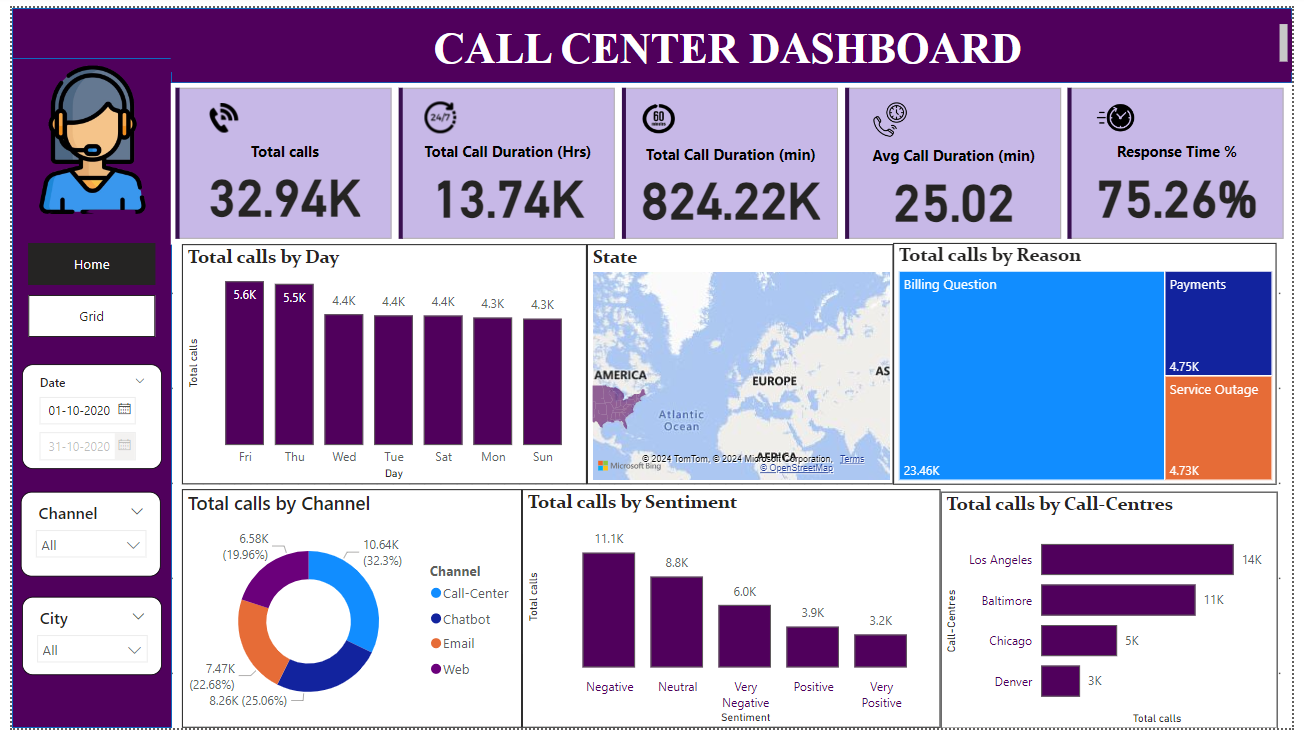

Layout of this report page (visuals, bound fields, positions):
{"tool":"powerbi","page":{"name":"Home","canvas":[1280,720],"ordinal":0},"visuals":[{"type":"shape","box":[0,0,1280.3,75.1],"z":0},{"type":"shape","box":[0,50,160,670],"z":1000},{"type":"cardVisual","fields":{"Data":["Call Center_Call Center.Total calls","Call Center_Call Center.Total Call Duration (Hrs)","Call Center_Call Center.Total Call Duration (min)","Call Center_Call Center.Avg Call Duration (min)","Call Center_Call Center.Response Time %"]},"box":[158.6,75.1,1121.6,161.4],"z":2000},{"type":"textbox","box":[158.6,11.1,1121.6,52.9],"z":3000},{"type":"columnChart","fields":{"Category":["Data Table.Day"],"Y":["Call Center_Call Center.Total calls"]},"box":[170,236.7,405,240],"z":4000},{"type":"filledMap","fields":{"Category":["Call Center_Call Center.State"]},"box":[575,236.7,306.7,240],"z":5000},{"type":"treemap","fields":{"Group":["Call Center_Call Center.Reason"],"Values":["Call Center_Call Center.Total calls"]},"box":[881.7,235,383.3,241.7],"z":6000},{"type":"donutChart","fields":{"Category":["Call Center_Call Center.Channel"],"Y":["Call Center_Call Center.Total calls"]},"box":[170,481.7,340,238.3],"z":7000},{"type":"columnChart","fields":{"Category":["Call Center_Call Center.Sentiment"],"Y":["Call Center_Call Center.Total calls"]},"box":[510,481.7,418.3,238.3],"z":8000},{"type":"barChart","fields":{"Category":["Call Center_Call Center.Call-Centres City"],"Y":["Call Center_Call Center.Total calls"]},"box":[928.3,483.3,336.7,236.7],"z":9000},{"type":"slicer","title":"Date","fields":{"Values":["Data Table.Date"]},"box":[10,356.7,140,105],"z":10000},{"type":"slicer","title":"Date","fields":{"Values":["Call Center_Call Center.Channel"]},"box":[8.3,483.3,140,85],"z":11000},{"type":"slicer","title":"Date","fields":{"Values":["Call Center_Call Center.City"]},"box":[10,588.3,140,78.3],"z":12000},{"type":"image","box":[1.7,50,158.3,163.3],"z":13000},{"type":"pageNavigator","box":[16.7,235.2,127.8,94.4],"z":14001}]}

Visuals, with their boxes in screenshot pixels (x1, y1, x2, y2), scaled from the page's 1280x720 canvas onto the 1304x734 screenshot:
shape: <region>0, 0, 1303, 77</region>
shape: <region>0, 51, 163, 733</region>
cardVisual - Call Center_Call Center.Total calls x Call Center_Call Center.Total Call Duration (Hrs): <region>162, 77, 1303, 241</region>
textbox: <region>162, 11, 1303, 65</region>
columnChart - Data Table.Day x Call Center_Call Center.Total calls: <region>173, 241, 586, 486</region>
filledMap - Call Center_Call Center.State: <region>586, 241, 898, 486</region>
treemap - Call Center_Call Center.Reason x Call Center_Call Center.Total calls: <region>898, 240, 1289, 486</region>
donutChart - Call Center_Call Center.Channel x Call Center_Call Center.Total calls: <region>173, 491, 520, 733</region>
columnChart - Call Center_Call Center.Sentiment x Call Center_Call Center.Total calls: <region>520, 491, 946, 733</region>
barChart - Call Center_Call Center.Call-Centres City x Call Center_Call Center.Total calls: <region>946, 493, 1289, 733</region>
"Date" slicer: <region>10, 364, 153, 471</region>
"Date" slicer: <region>8, 493, 151, 579</region>
"Date" slicer: <region>10, 600, 153, 680</region>
image: <region>2, 51, 163, 217</region>
pageNavigator: <region>17, 240, 147, 336</region>
